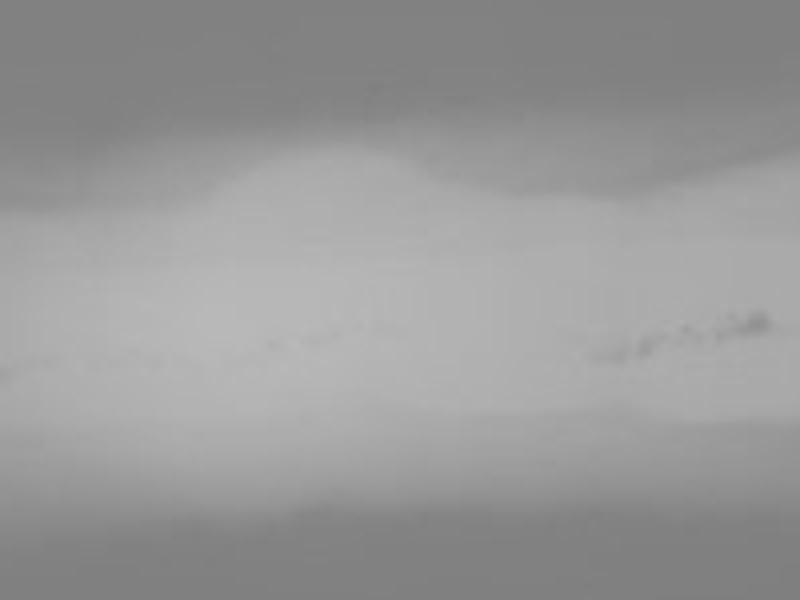defect: (740, 306, 772, 335)
